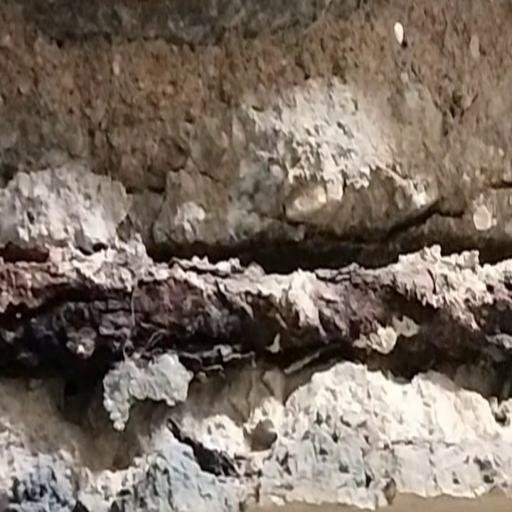spalling: (22, 0, 512, 512)
